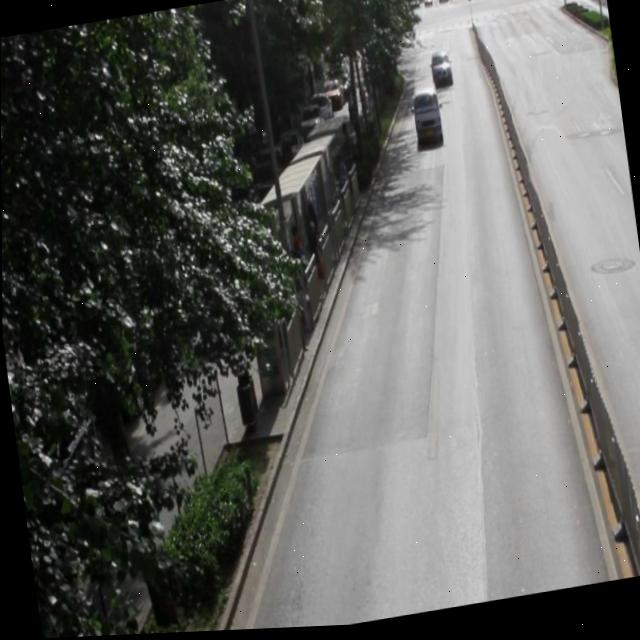truck: (409, 88, 441, 150)
